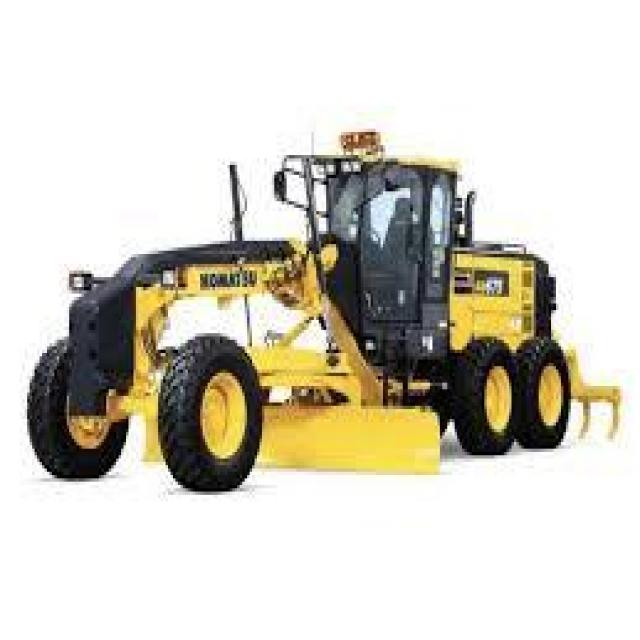Grader: (18, 122, 620, 485)
